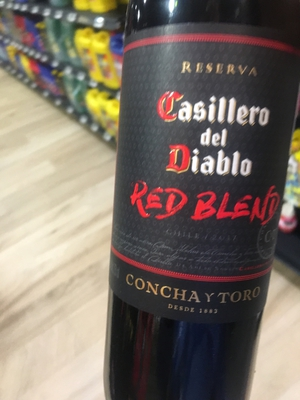casillero del diablo red blend: (112, 11, 300, 399)
